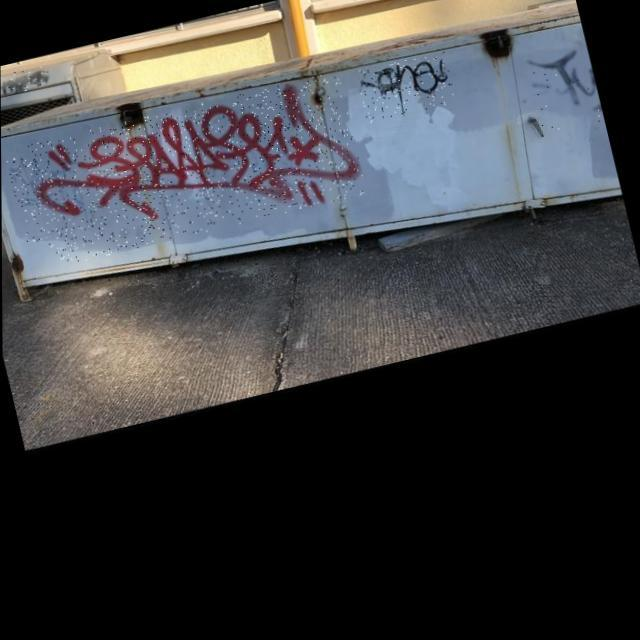-: (24, 71, 367, 268), (5, 136, 124, 245), (355, 50, 456, 124), (524, 46, 604, 136), (1, 64, 52, 109)
